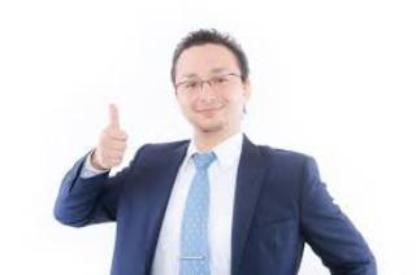person: (48, 23, 379, 275)
